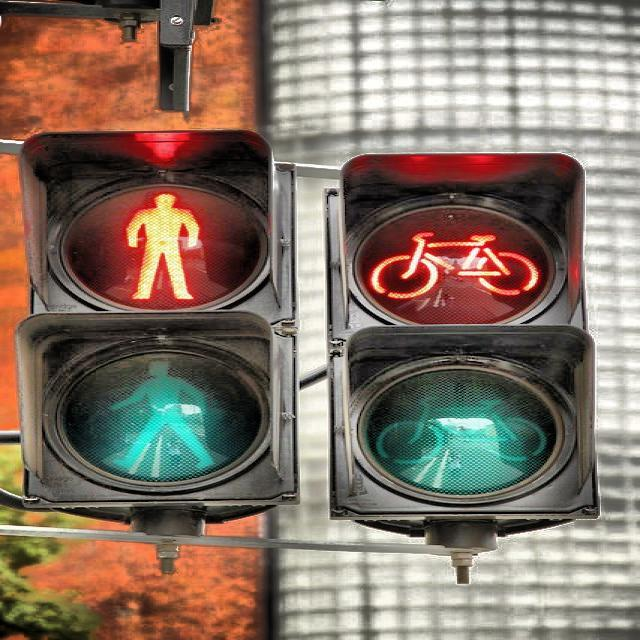red_light: (121, 188, 206, 303)
